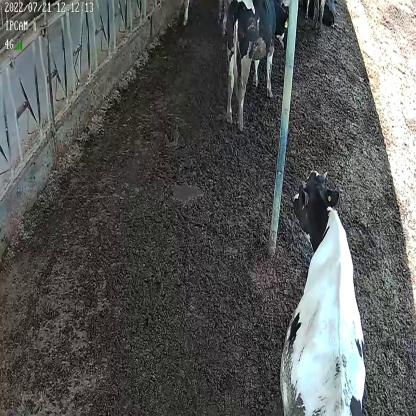cow: (280, 164, 367, 416), (222, 0, 288, 128)
